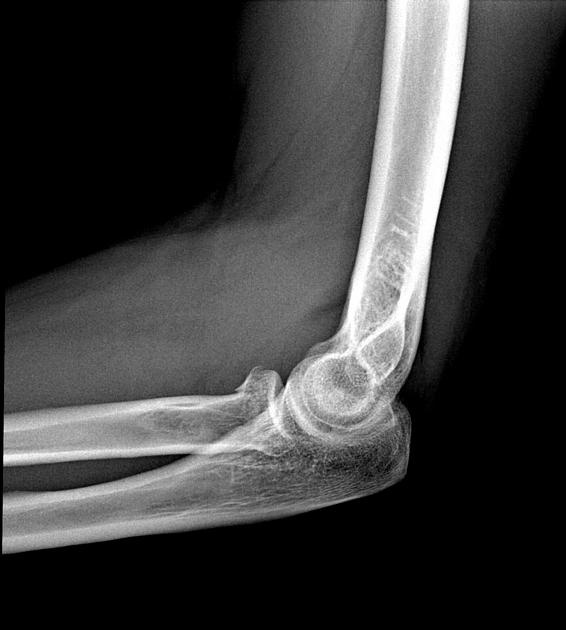fractured: (228, 378, 260, 422)
